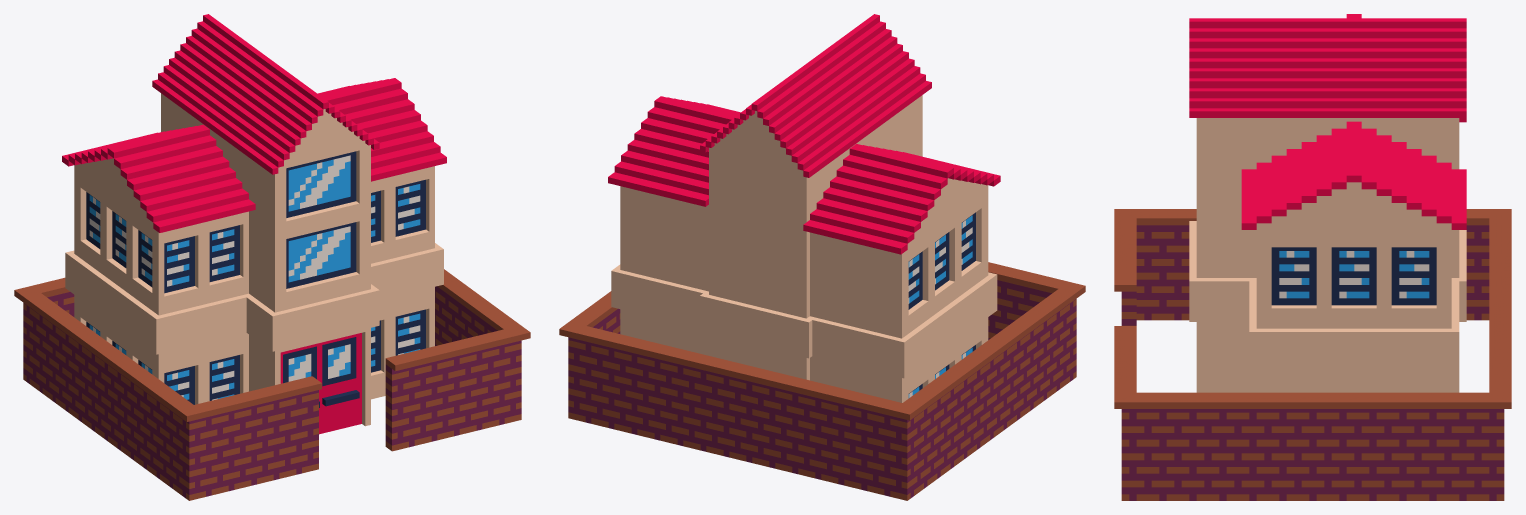
Rendered from school_a.obj.
The picture shows the model from 3 angles, left to right: view 1: azimuth 30°, elevation 25°; view 2: azimuth 150°, elevation 25°; view 3: azimuth 270°, elevation 25°; orthographic projection. The views are drawn at different scales.
Bounding box in the file's own units: 6.1 × 5.7 × 5.3.
1 material, 1 textured.
